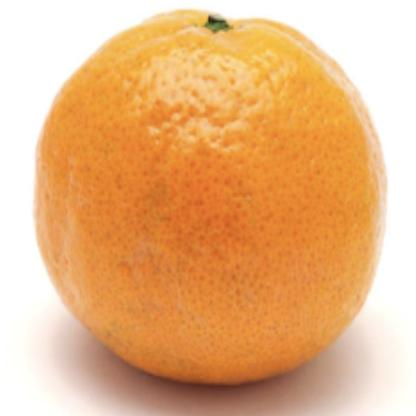fresh: (33, 13, 386, 388)
